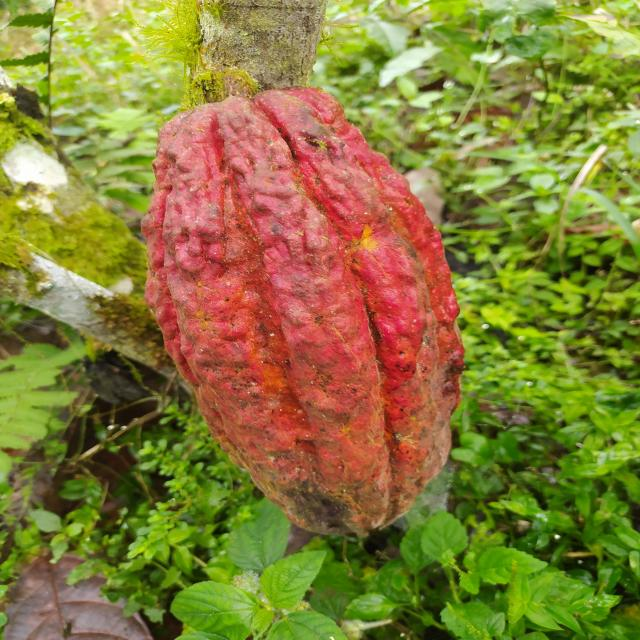Sana: (142, 85, 467, 541)
